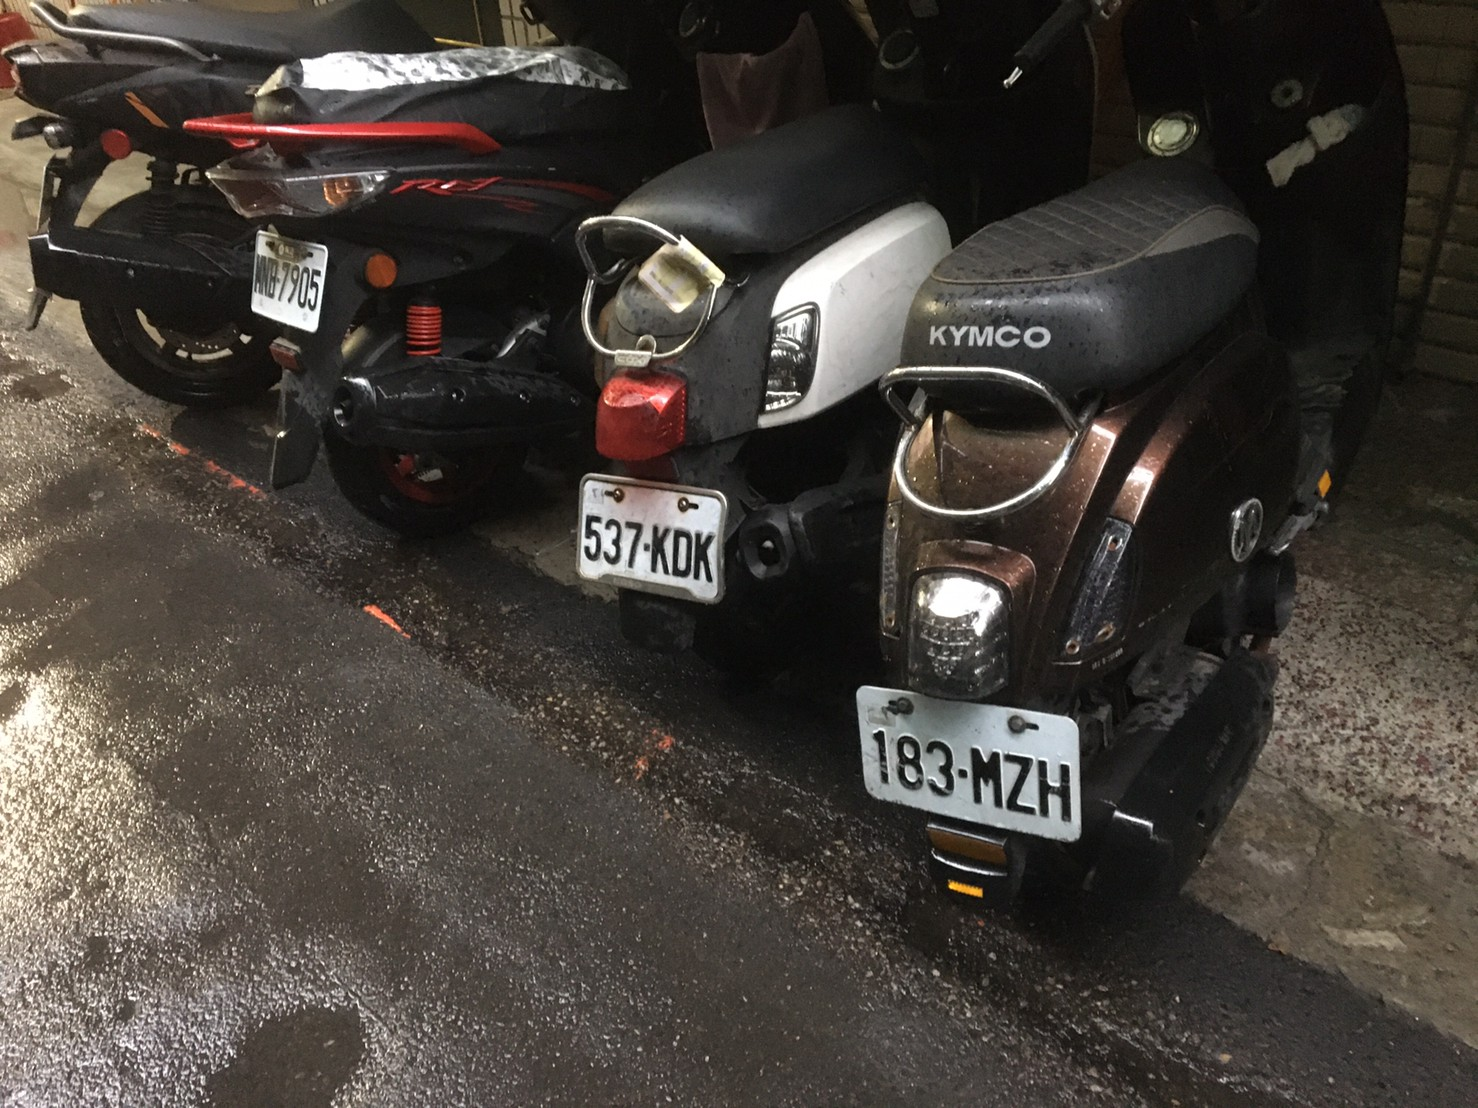LP: (852, 684, 1081, 841), (575, 473, 725, 603), (247, 229, 324, 327)
